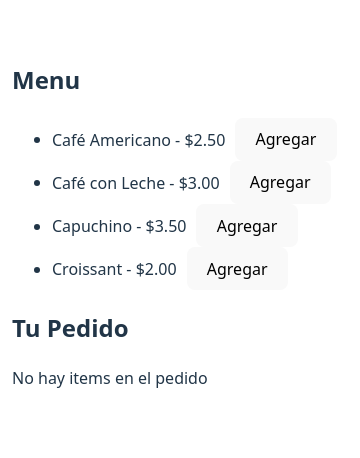
Test: HU3 - Calcular total del pedido › debe mostrar el total actualizado al agregar productos
The width and height of the screenshot is (360, 458).
expect the list item "Café Americano - $2.50 Agregar" is shown: met, box [52, 118, 336, 161]
Click the button "Agregar" in the row of "Café Americano" at (286, 139), box [235, 118, 336, 161]
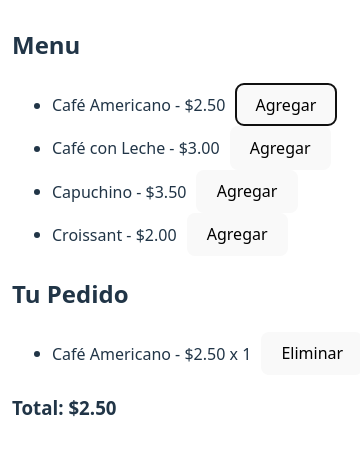
Click the 1st button "Agregar" at (286, 105), box [235, 83, 336, 126]
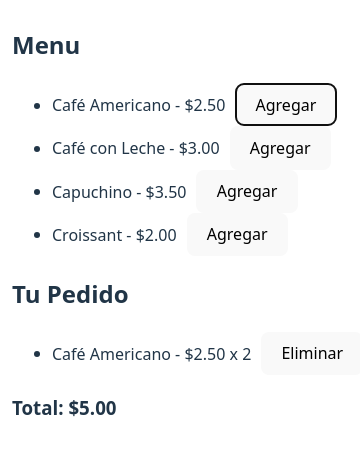
Click the button "Agregar" in the row of "Café con Leche" at (280, 148), box [230, 126, 331, 170]
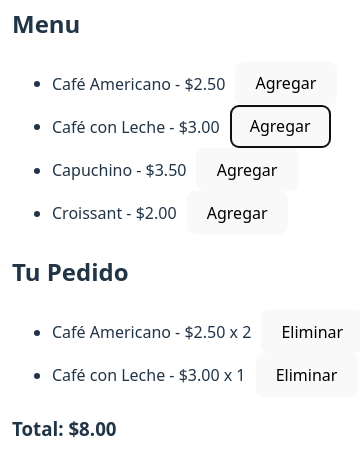
expect the heading "Total: $8.00" is shown: met, box [12, 416, 116, 441]
